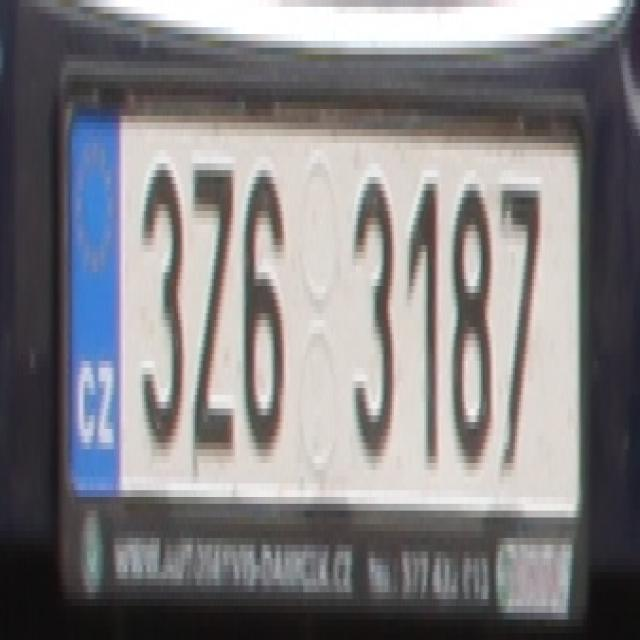1: (405, 170, 441, 463)
3: (140, 157, 186, 429), (354, 170, 396, 456)
6: (242, 170, 284, 456)
7: (496, 177, 540, 463)
8: (452, 184, 492, 456)
Z: (189, 150, 233, 449)
